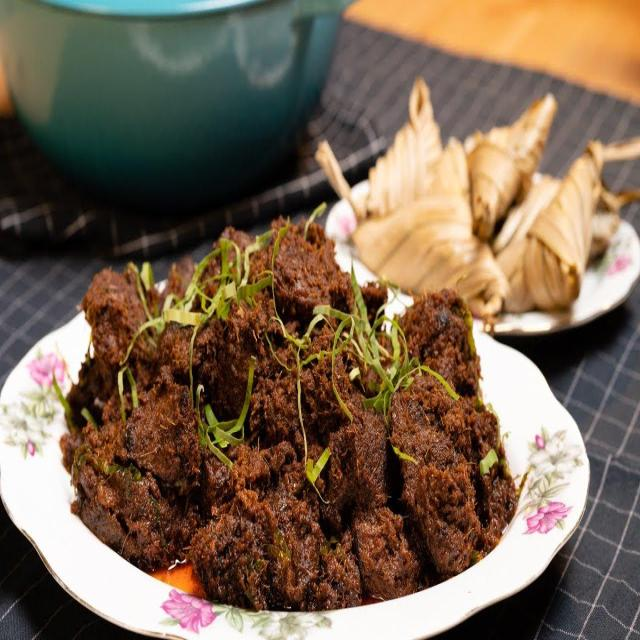Rendang: (69, 225, 531, 613)
